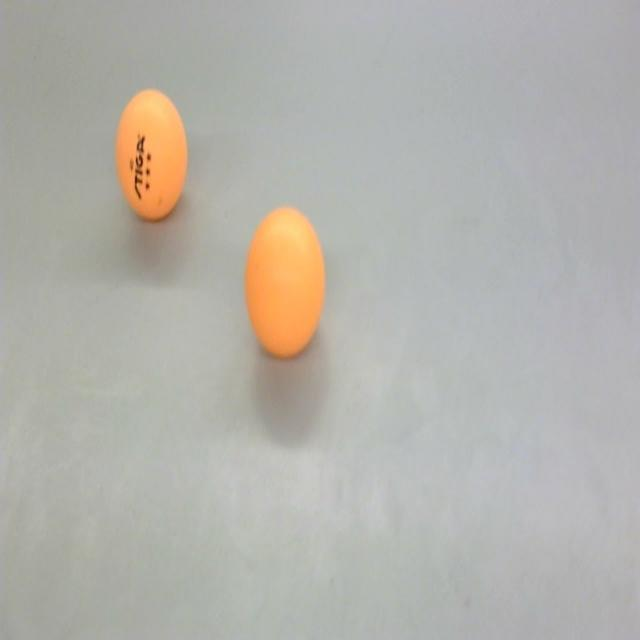ball: (244, 204, 328, 362), (114, 86, 190, 221)
